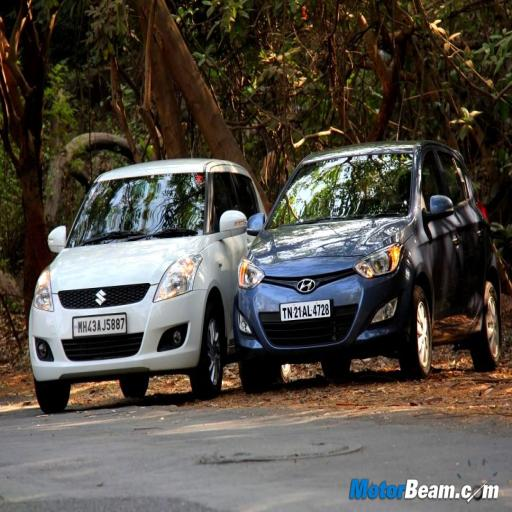License: (73, 310, 133, 336), (278, 299, 334, 324)
